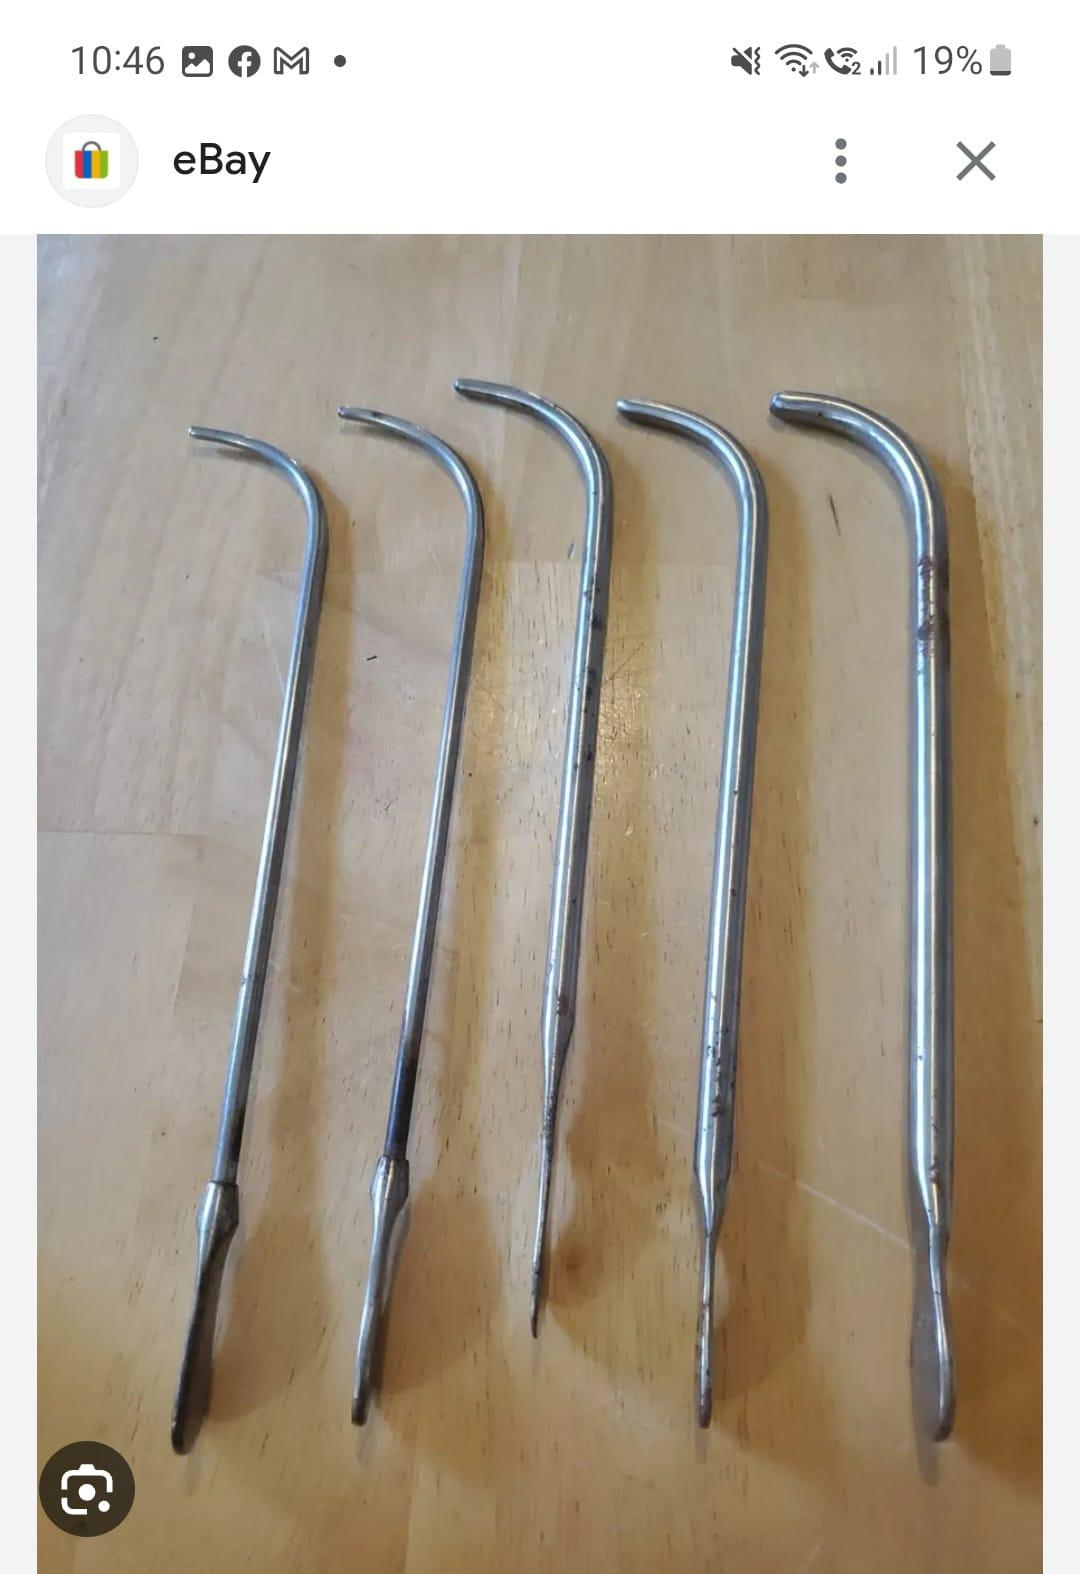Urethral Dilators: (775, 365, 992, 1472), (432, 368, 635, 1355), (153, 413, 340, 1460), (600, 390, 780, 1445), (328, 382, 495, 1420)
